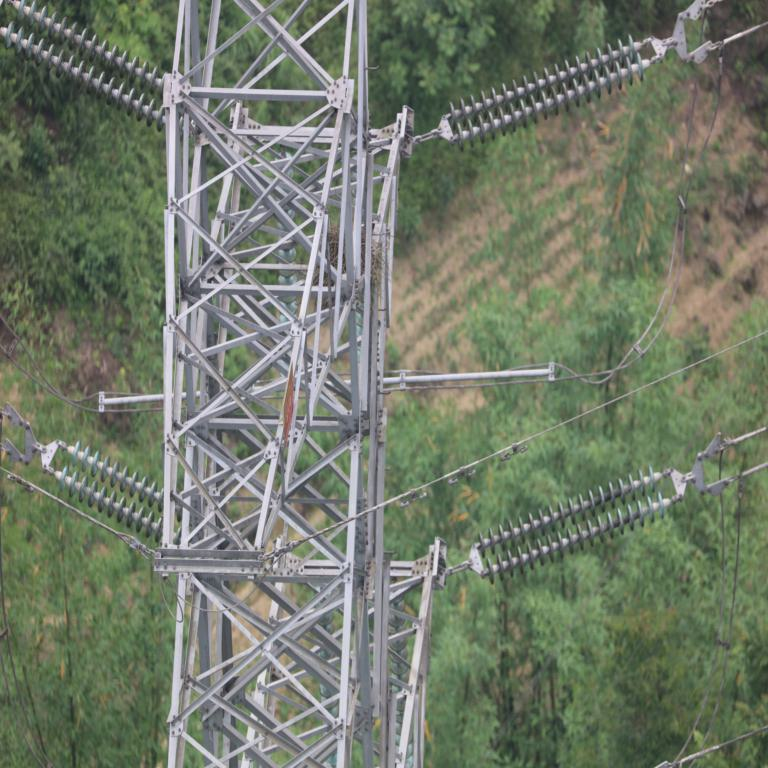nest: (313, 230, 385, 304)
